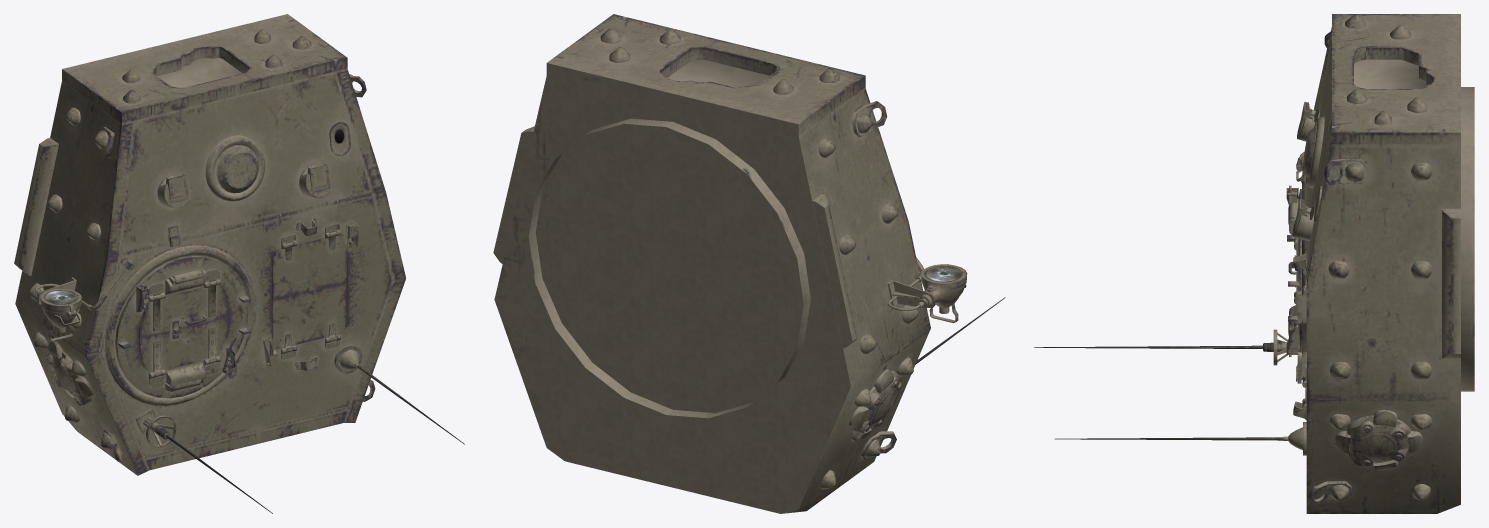
File: Turret_01.glb
The picture shows the model from 3 angles, left to right: view 1: azimuth 30°, elevation 25°; view 2: azimuth 150°, elevation 25°; view 3: azimuth 270°, elevation 25°; orthographic projection. The views are drawn at different scales.
Parts seen in each view (by area): view 1: set_0_group_0; view 2: set_0_group_0; view 3: set_0_group_0.
Part boxes in pixels (left/top/right/bottom): set_0_group_0: left=14, top=14, right=464, bottom=513; set_0_group_0: left=493, top=14, right=1005, bottom=513; set_0_group_0: left=1034, top=14, right=1474, bottom=513.
Bounding box in the file's own units: 2.15 × 2.12 × 2.11.
1 material, 1 textured.
